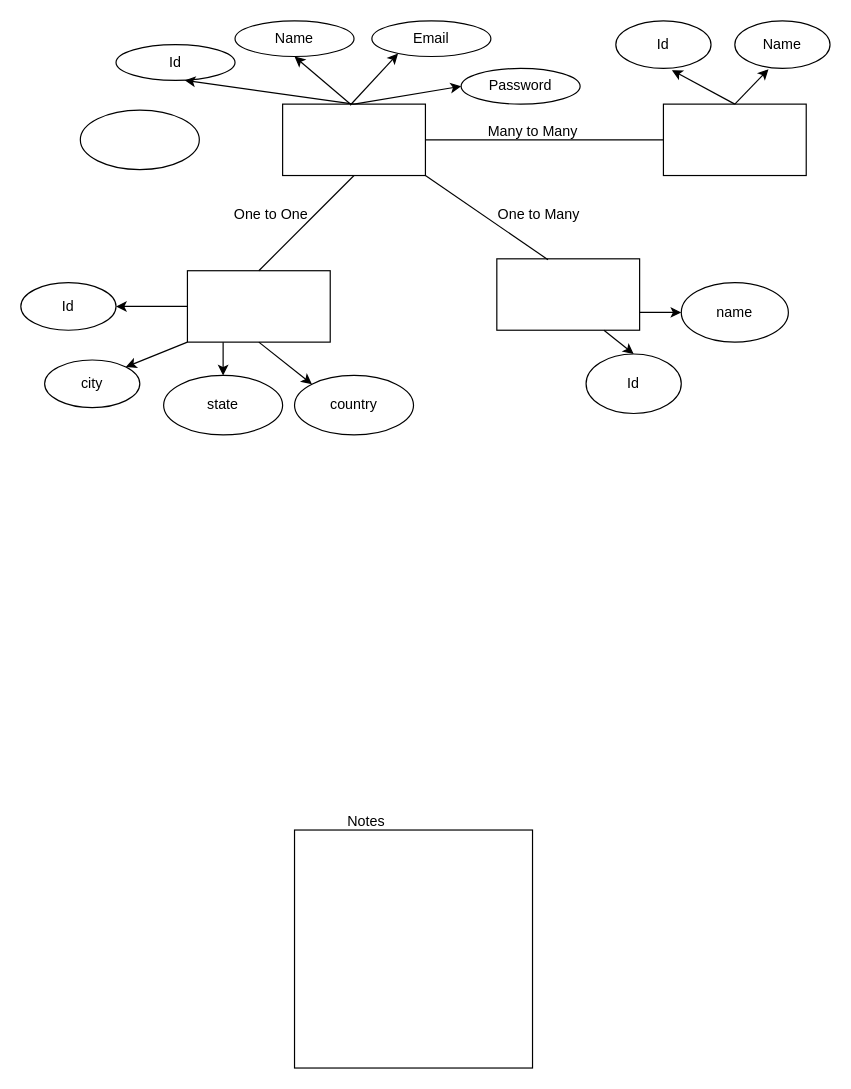
Some shapes in this 851 by 1089 pixel diagram are drawn without their labels. Each missing label, with the centre of its shape:
"Address" belongs at pixel 258 306.
"address_id" belongs at pixel 139 139.
"Department" belongs at pixel 568 294.
"Employee" belongs at pixel 353 139.
"id title user_id 1 java 1 2 python 1 3 c# 2 4 python 2" belongs at pixel 413 948.
"Projects" belongs at pixel 734 139.
